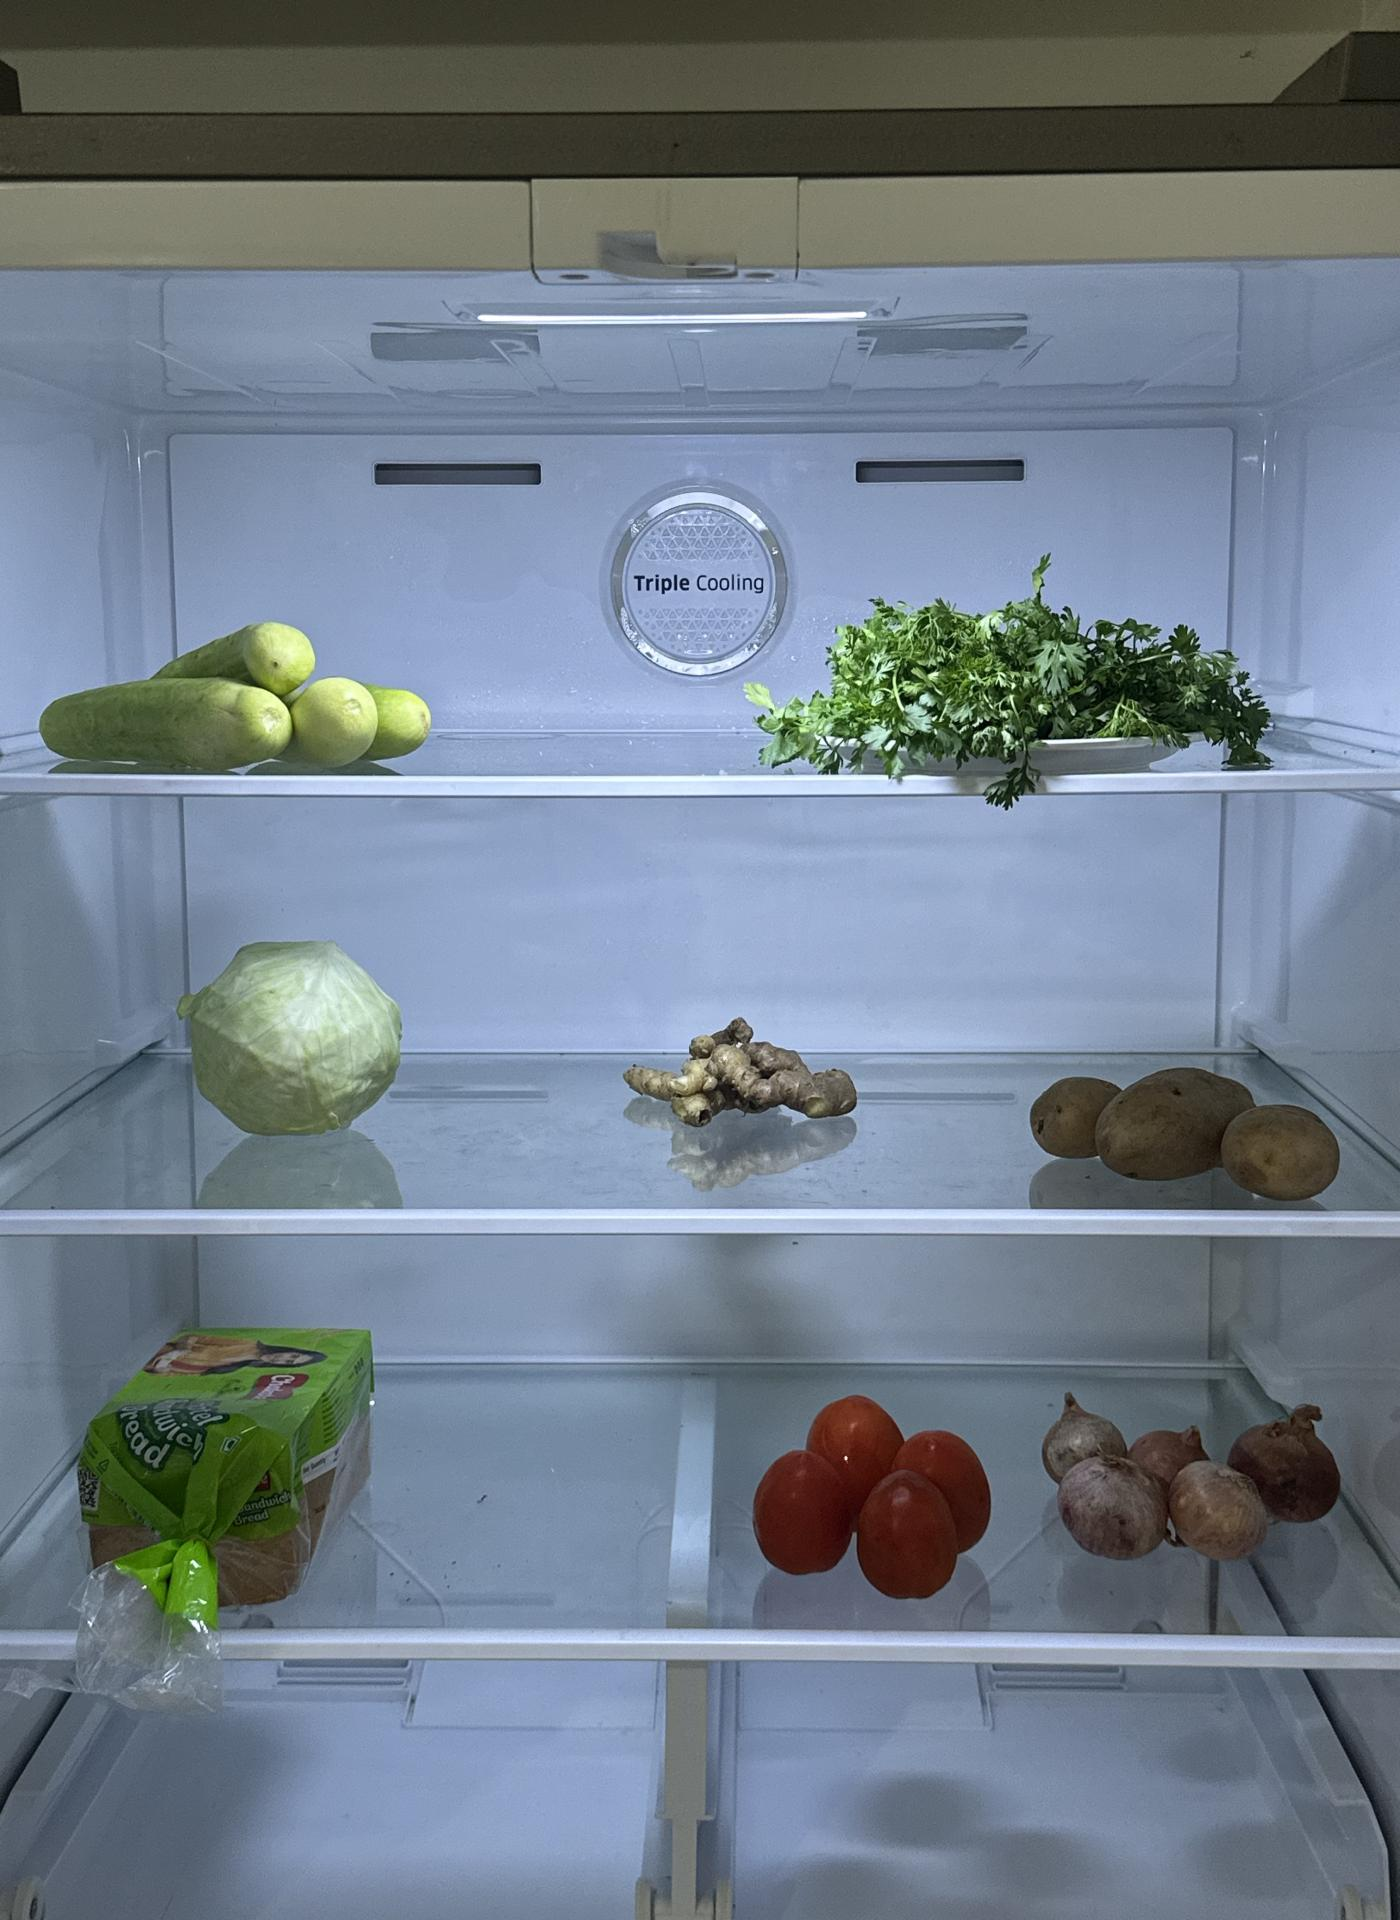bread: (78, 1321, 386, 1620)
cabbage: (173, 942, 407, 1146)
coriander: (777, 595, 1267, 774)
cucumber: (37, 626, 434, 799)
ginger: (631, 1014, 863, 1127)
onion: (1047, 1386, 1346, 1564)
potato: (1032, 1054, 1345, 1191)
tomato: (747, 1394, 990, 1602)
